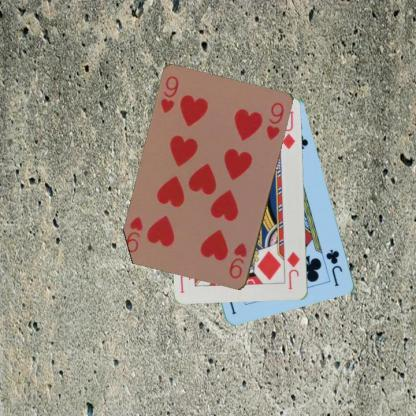9h: (226, 240, 249, 281), (158, 73, 180, 115)
Jc: (324, 247, 344, 288)
Jd: (284, 249, 302, 291)
